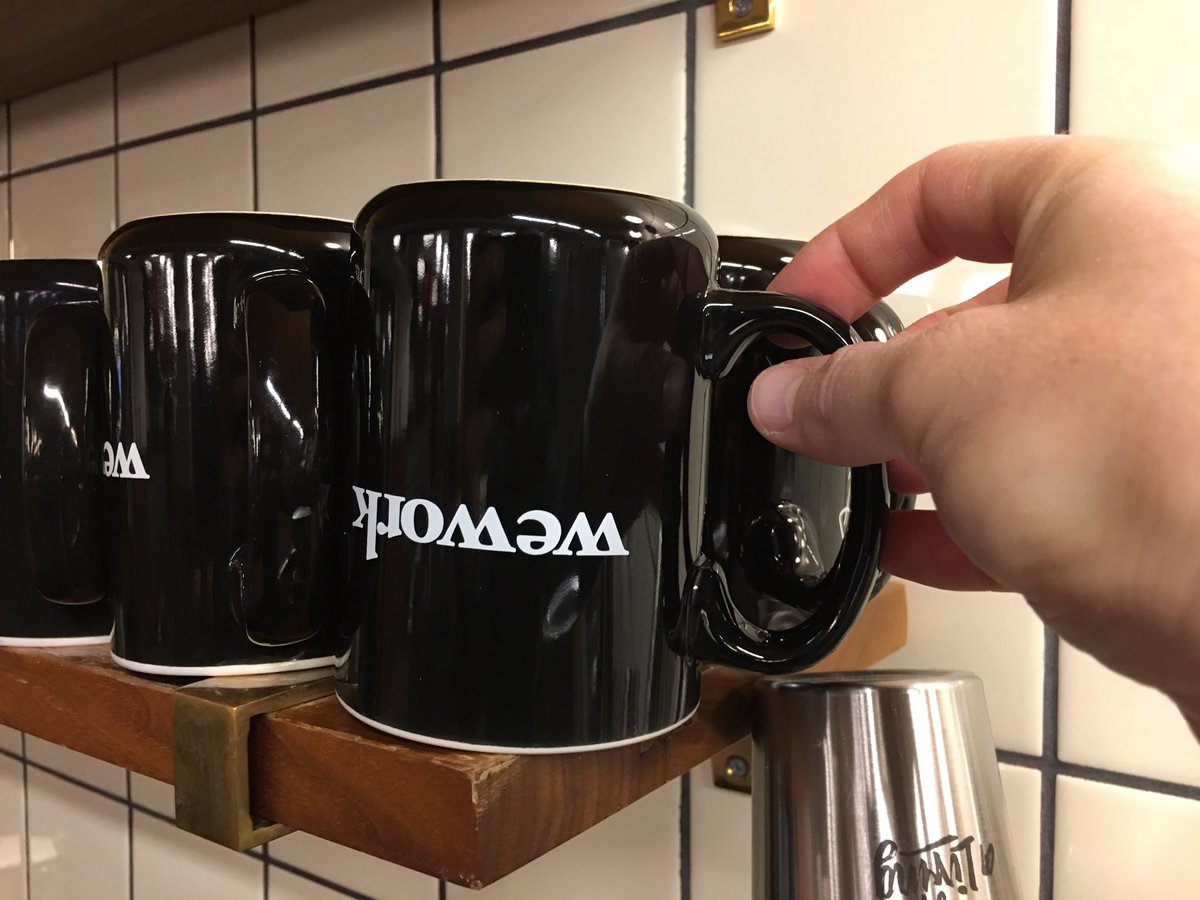wework: (347, 472, 634, 569)
